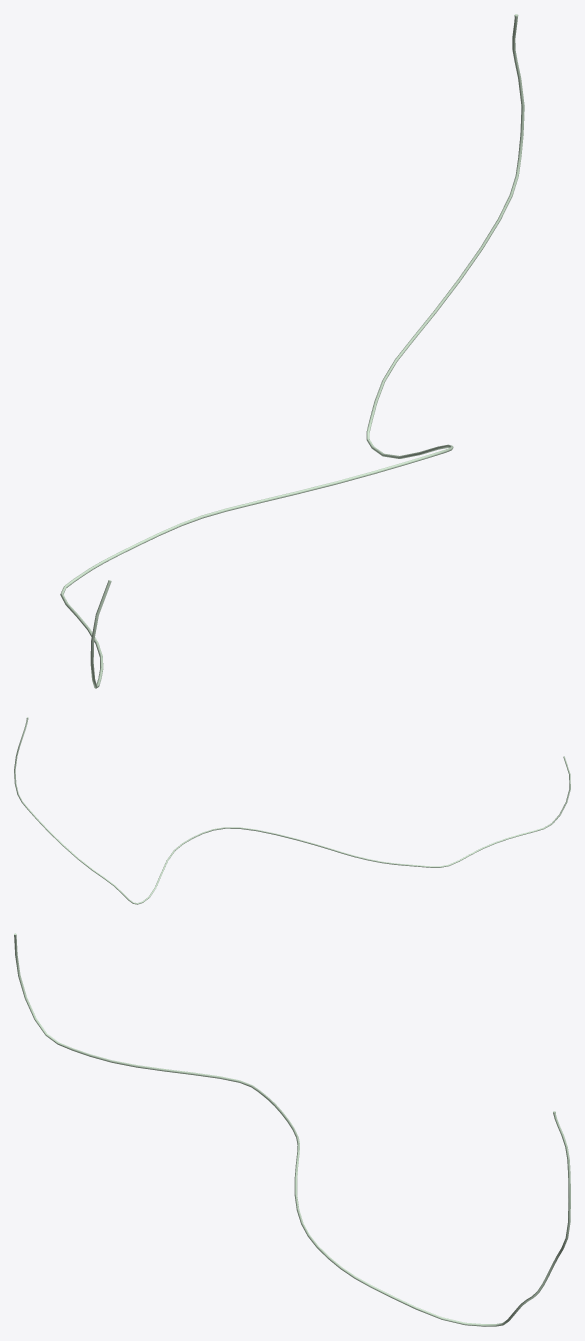
File: daybongSDV.fbx
3 renders of one model, top to bottom at view 1: azimuth 30°, elevation 25°; view 2: azimuth 150°, elevation 25°; view 3: azimuth 270°, elevation 25°, orthographic. The views are drawn at different scales.
Visible parts, largest first — view 1: dayoxy_sdv; view 2: dayoxy_sdv; view 3: dayoxy_sdv.
Part boxes in pixels (<box>): dayoxy_sdv: <box>60,14,524,688</box>; dayoxy_sdv: <box>14,717,570,904</box>; dayoxy_sdv: <box>14,933,570,1326</box>.
Size of the model in its own units: 51.05 by 22.49 by 39.37.
